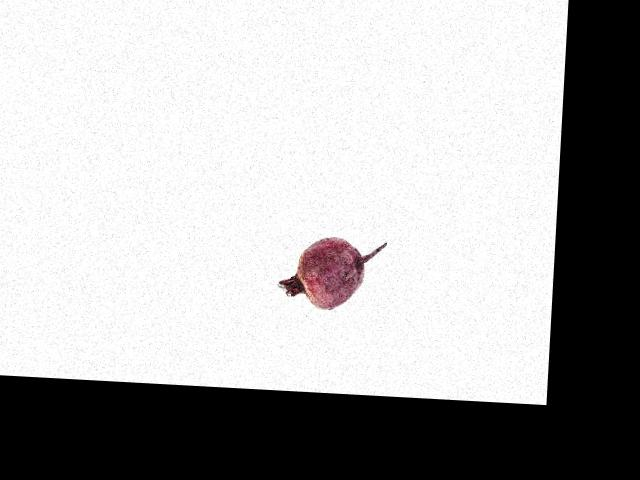beet: (277, 234, 385, 311)
